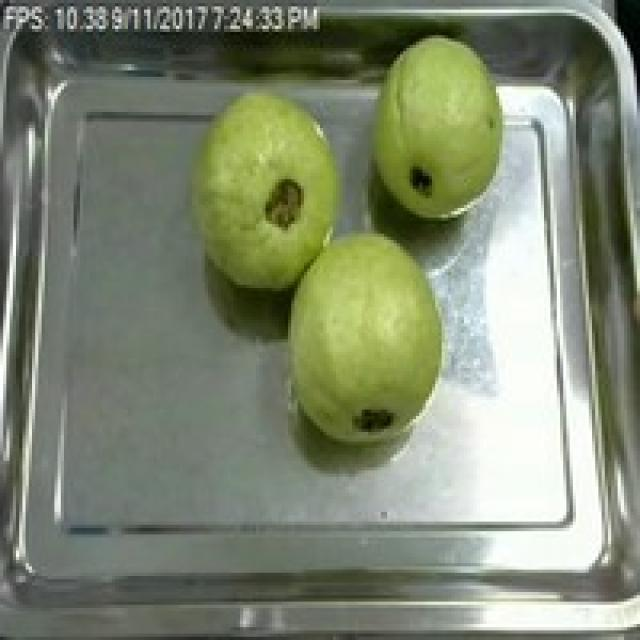Fruit: (275, 218, 458, 454), (170, 80, 358, 301), (348, 16, 522, 234)
